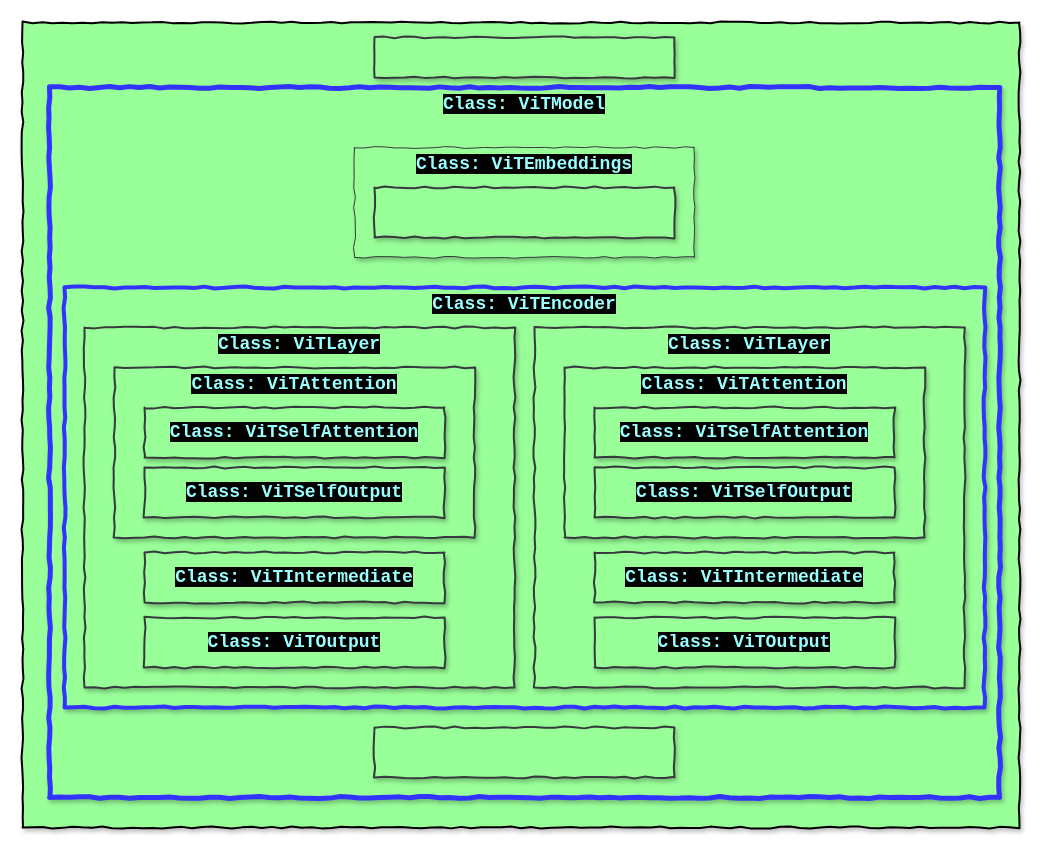
Image size: 1043x852. Some labels were removed from this diagram. The centre of each missing label's shape, as x and y in pixels:
"Class: PatchEmbeddings" goes at point (525, 213).
"Class: ViTConfig" goes at point (525, 58).
"Class: ViTPooler" goes at point (525, 753).
